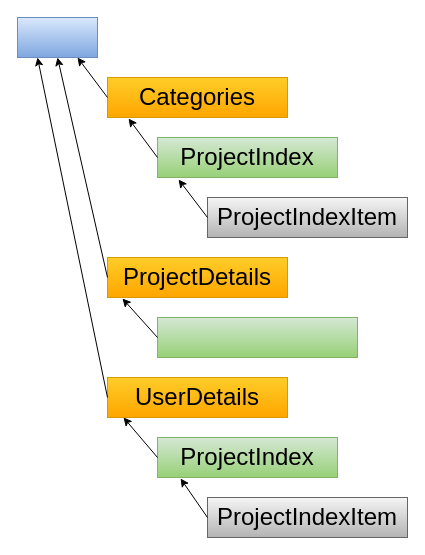
The diagram is 425 pixels wide and 555 high, and some of its shapes have lost their labels. The shapes that lost their labels are listed below. From the top down, each one's box as (x1, y1, x2, y2) in pixels, then its label:
(16, 16, 98, 58): App
(156, 316, 358, 358): RewardItem
